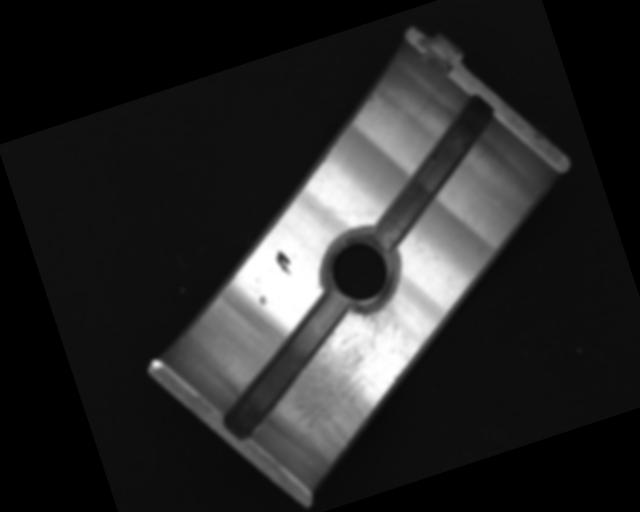blot: (273, 248, 295, 278)
bruise: (257, 294, 268, 307)
gap: (339, 91, 525, 253), (194, 292, 372, 443)
hole: (312, 221, 412, 319)
scratch: (261, 294, 439, 473)
